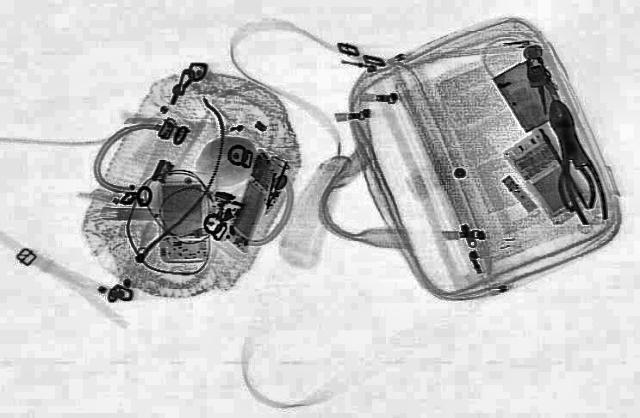Pliers: (536, 96, 614, 226), (540, 129, 600, 209)
